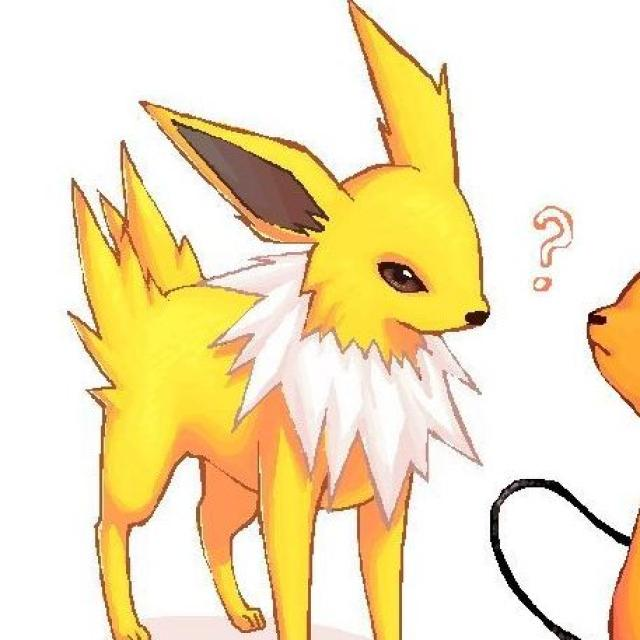Jolteon: (44, 117, 505, 640)
